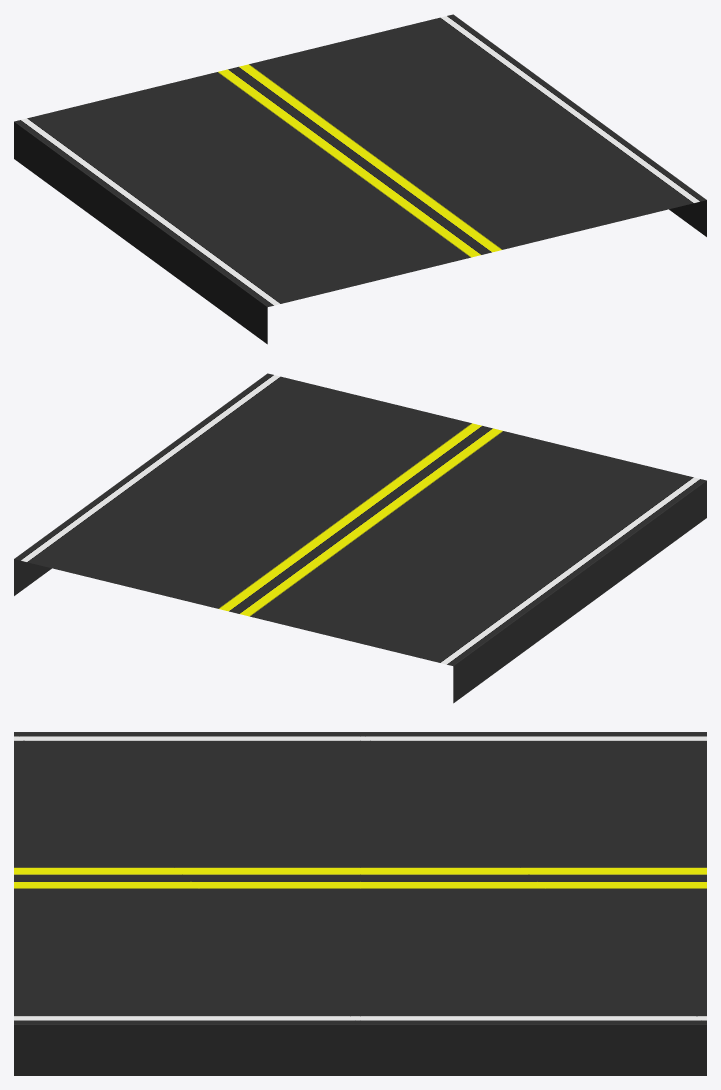
Rendered from rua.fbx.
3 views of the same model, one above another, from view 1: azimuth 30°, elevation 25°; view 2: azimuth 150°, elevation 25°; view 3: azimuth 270°, elevation 25° (orthographic). The views are drawn at different scales.
Parts seen in each view (by area): view 1: Plane; view 2: Plane; view 3: Plane.
Boxes of the visible parts, left/top/right/bottom form: Plane: left=14, top=14, right=706, bottom=344; Plane: left=14, top=373, right=706, bottom=703; Plane: left=14, top=732, right=706, bottom=1075.
Size of the model in its own units: 200 by 16.24 by 200.
